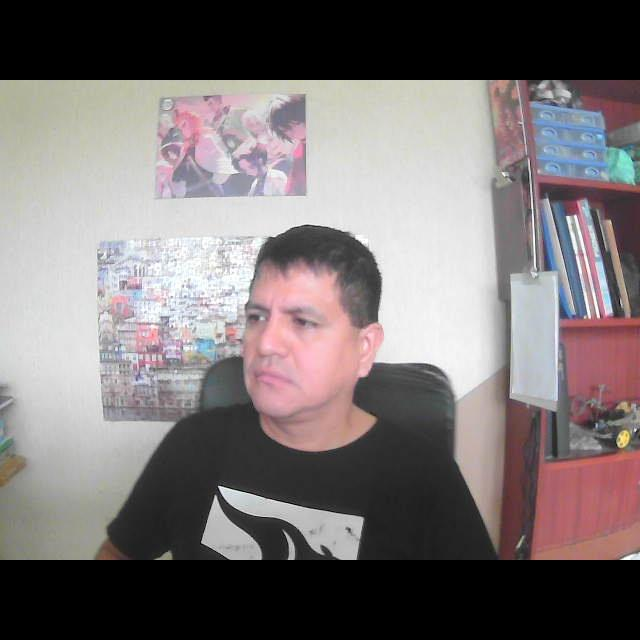cesar: (220, 215, 406, 459)
